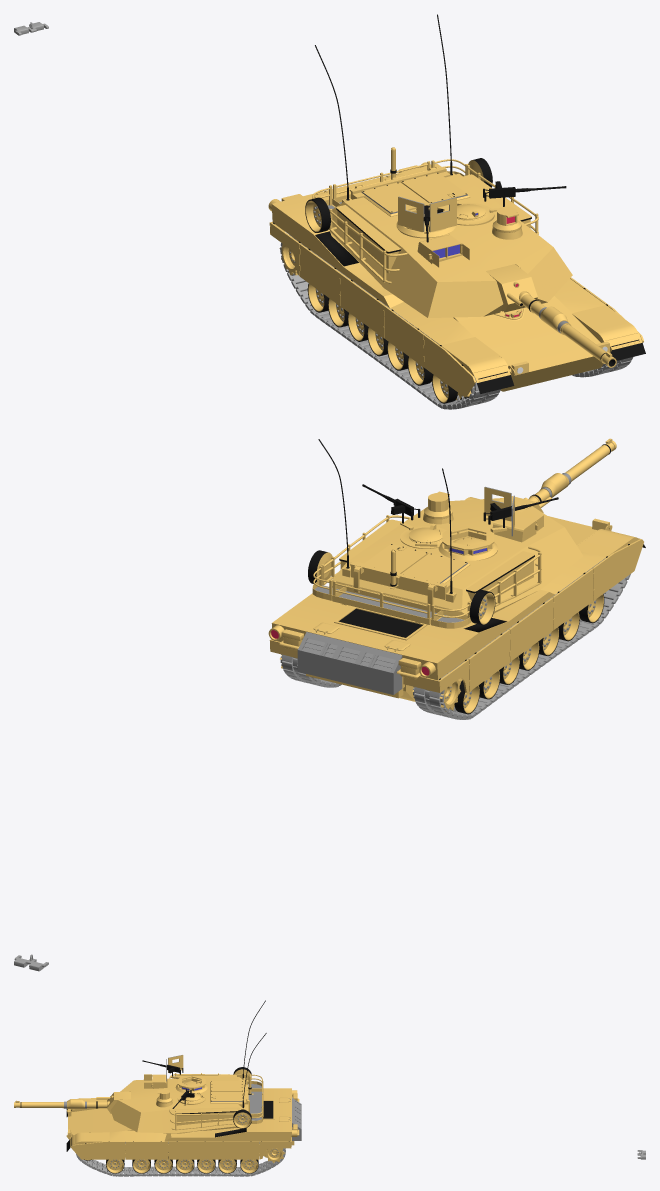
The model's file is M1A2 SEPv2.fbx.
The picture shows the model from 3 angles, top to bottom: view 1: azimuth 30°, elevation 25°; view 2: azimuth 150°, elevation 25°; view 3: azimuth 270°, elevation 25°; orthographic projection. The views are drawn at different scales.
Parts seen in each view (by area): view 1: 炮塔, M1A2车体, 120mm炮, 右履带, 车长机枪, 副机枪; view 2: M1A2车体, 炮塔, 右履带, 120mm炮, 车长机枪; view 3: M1A2车体, 炮塔, 左履带, 120mm炮, 车长机枪.
Boxes of the visible parts, x1,y1,x2,y2 form: 炮塔: (305, 14, 572, 317); M1A2车体: (268, 162, 645, 397); 120mm炮: (486, 264, 616, 367); 右履带: (280, 234, 500, 409); 车长机枪: (398, 196, 456, 242); 副机枪: (483, 181, 566, 212); M1A2车体: (268, 497, 645, 701); 炮塔: (308, 439, 583, 628); 右履带: (413, 558, 630, 719); 120mm炮: (498, 438, 616, 512); 车长机枪: (483, 486, 558, 536); M1A2车体: (66, 1088, 301, 1159); 炮塔: (110, 1000, 266, 1133); 左履带: (76, 1142, 285, 1176); 120mm炮: (14, 1091, 130, 1113); 车长机枪: (142, 1055, 183, 1081).
Size of the model in its own units: 10.74 by 57.8 by 14.04.
